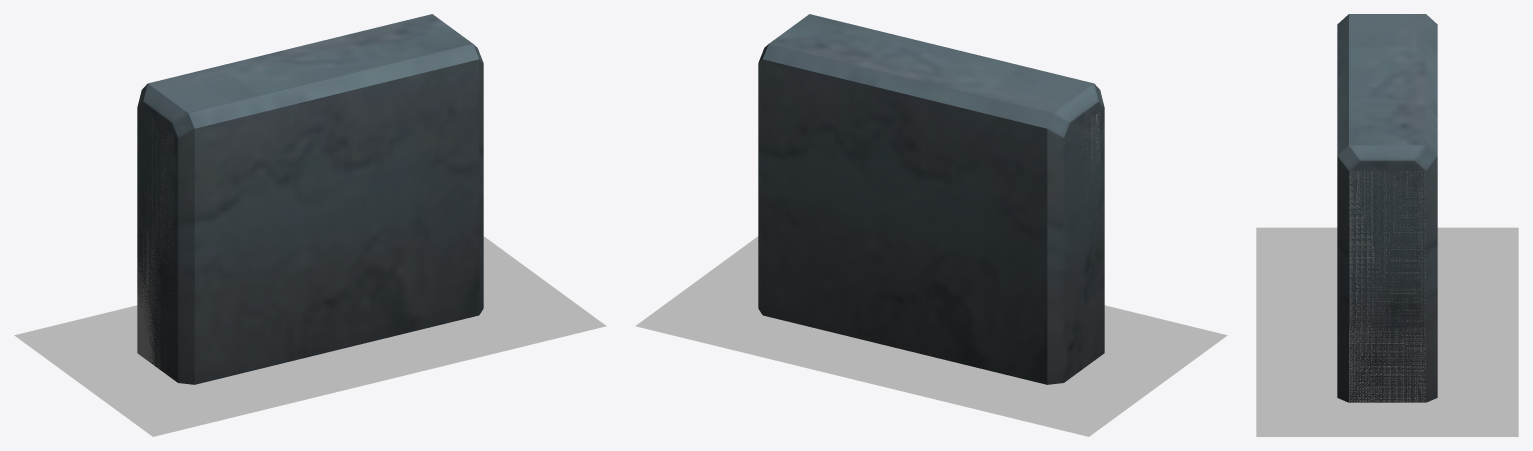
The model's file is 1x1_stone_wall_end.FBX.
3 renders of one model, left to right at view 1: azimuth 30°, elevation 25°; view 2: azimuth 150°, elevation 25°; view 3: azimuth 270°, elevation 25°, orthographic. The views are drawn at different scales.
Parts seen in each view (by area): view 1: 1x1_stone_wall_end, 1x1_stone_wall_end_soft_shadow, 1x1_stone_wall_shadow_caster; view 2: 1x1_stone_wall_end, 1x1_stone_wall_end_soft_shadow; view 3: 1x1_stone_wall_end, 1x1_stone_wall_end_soft_shadow, 1x1_stone_wall_shadow_caster.
Part boxes in pixels (x1,y1,x2,y2): 1x1_stone_wall_end: [137, 14, 483, 384]; 1x1_stone_wall_end_soft_shadow: [14, 236, 606, 436]; 1x1_stone_wall_shadow_caster: [137, 121, 176, 368]; 1x1_stone_wall_end: [758, 14, 1104, 384]; 1x1_stone_wall_end_soft_shadow: [635, 236, 1227, 436]; 1x1_stone_wall_end: [1337, 14, 1437, 402]; 1x1_stone_wall_end_soft_shadow: [1256, 227, 1518, 436]; 1x1_stone_wall_shadow_caster: [1349, 171, 1425, 402].
Size of the model in its own units: 1485 by 850 by 787.
